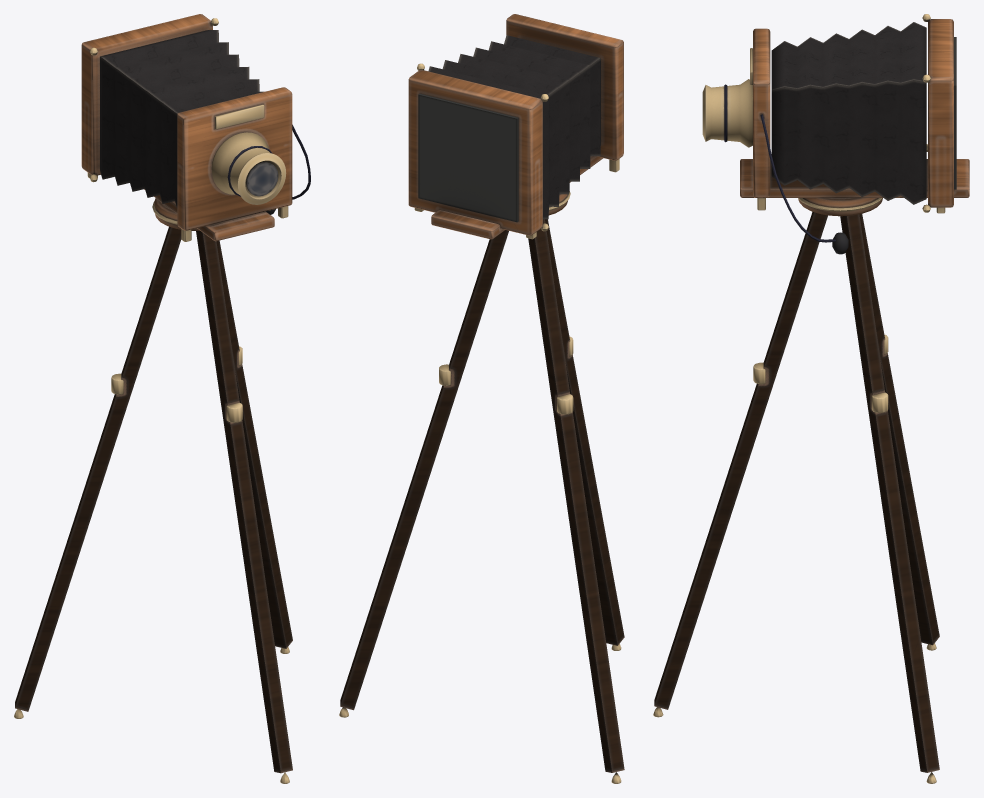
Rendered from BellowsCamera.fbx.
3 renders of one model, left to right at view 1: azimuth 30°, elevation 25°; view 2: azimuth 150°, elevation 25°; view 3: azimuth 270°, elevation 25°, orthographic. The views are drawn at different scales.
Parts seen in each view (by area): view 1: BellowsCamera; view 2: BellowsCamera; view 3: BellowsCamera.
Part boxes in pixels (bbox=[...]): BellowsCamera: bbox=[14, 14, 310, 783]; BellowsCamera: bbox=[339, 14, 624, 783]; BellowsCamera: bbox=[653, 14, 969, 783].
Bounding box in the file's own units: 230 × 516 × 220.
